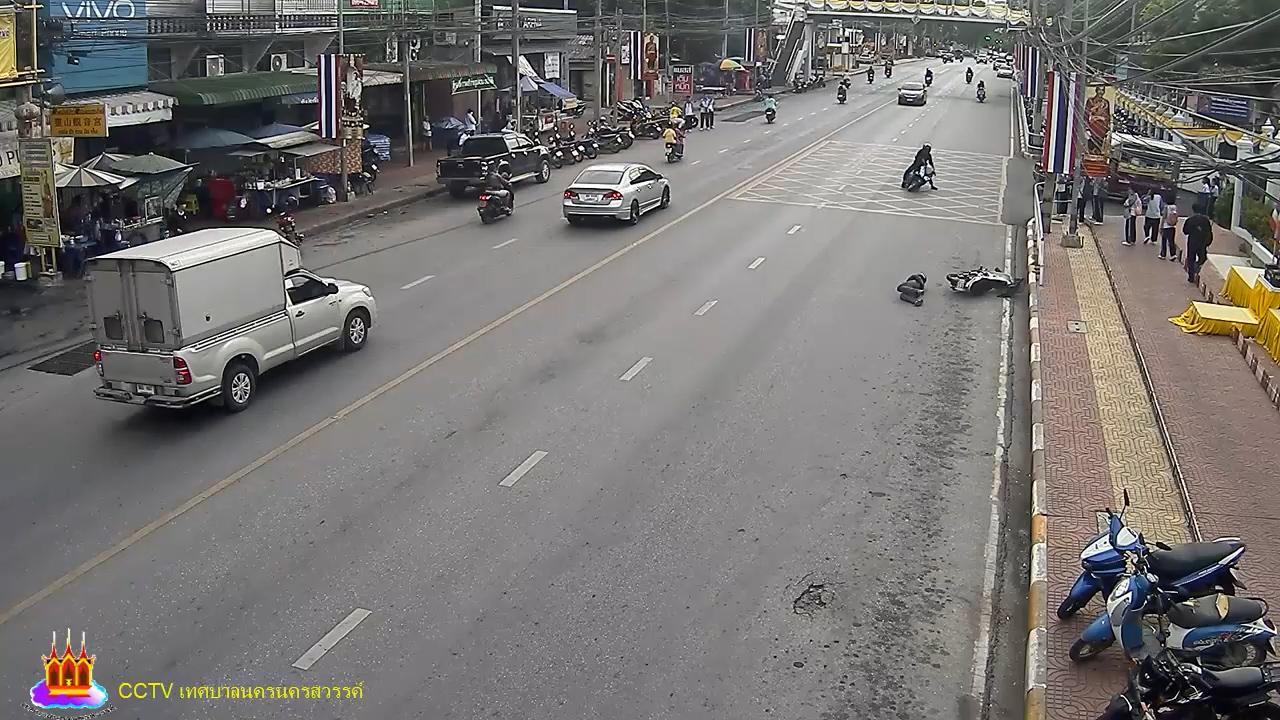accident: (894, 266, 930, 307)
